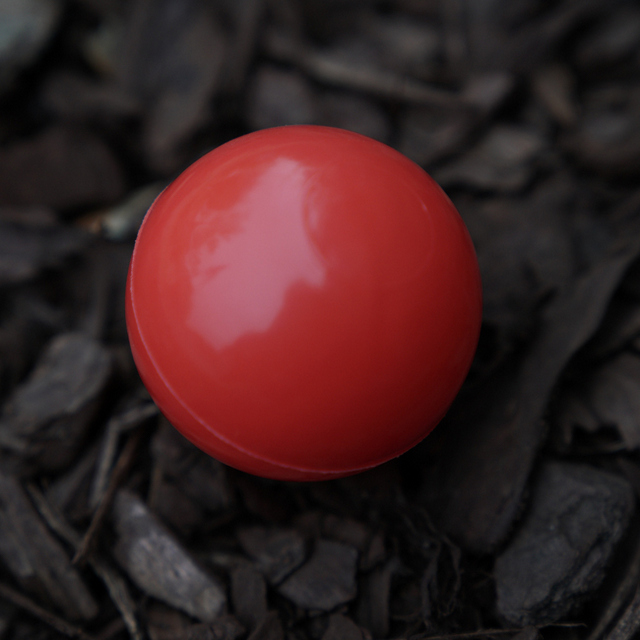Ball: (125, 124, 486, 477)
